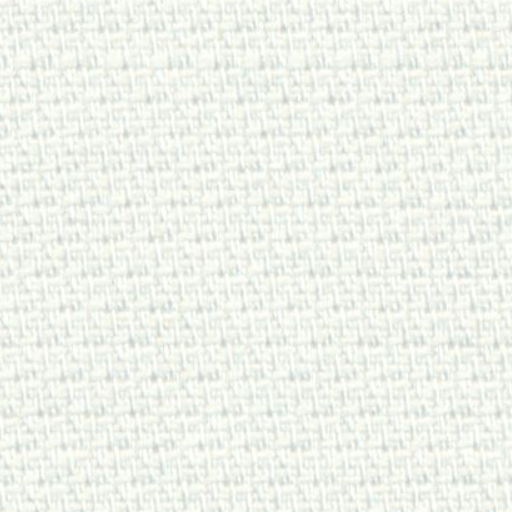TuoSha: (20, 22, 490, 106)
